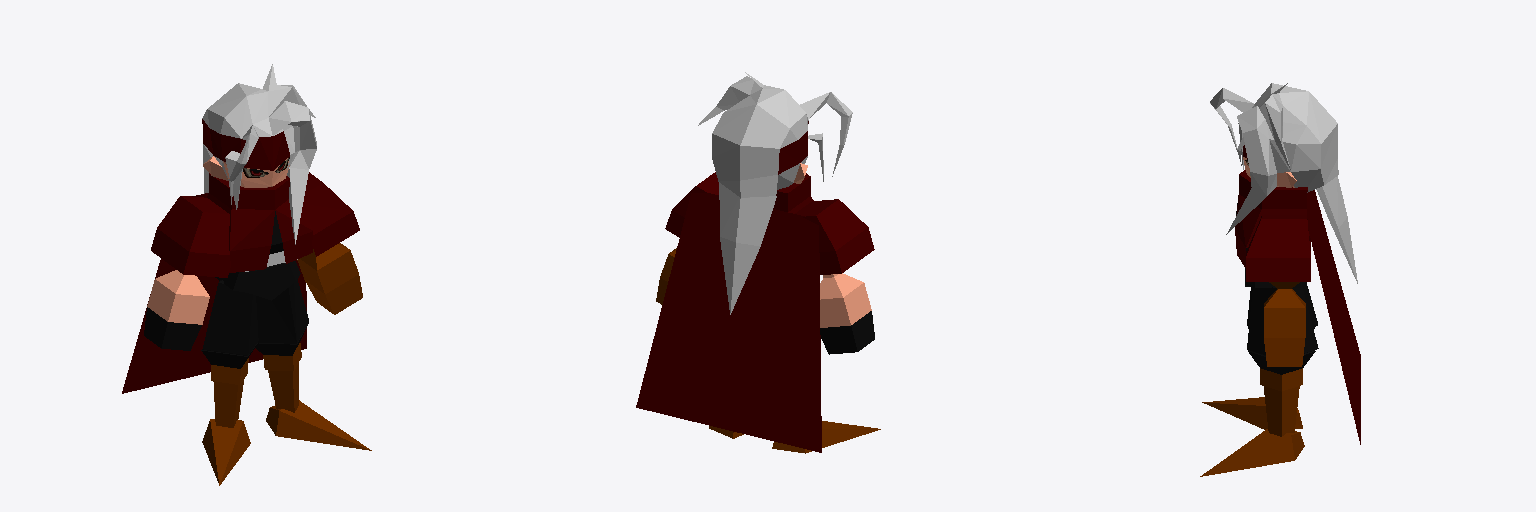
The picture shows the model from 3 angles: view 1: azimuth 30°, elevation 25°; view 2: azimuth 150°, elevation 25°; view 3: azimuth 270°, elevation 25°; orthographic projection.
Parts seen in each view (by area): view 1: 7_hair1_0_0_0, 7_capetop_0_0_0_7_capetop_0_0_0.001, 7_capearmR_0_0_0, 7_capeback_0_0_0, 7_legR1_0_0_0, 7_capearmL_0_0_0, 7_armR2_0_0_0, 7_legL1_0_0_0, 7_bootL2_0_0_0, 7_headband_0_0_0, 7_armL2_0_0_0, 7_bootR2_0_0_0 (+7 smaller); view 2: 7_capeback_0_0_0, 7_hair1_0_0_0, 7_hair2_0_0_0, 7_capearmR_0_0_0, 7_armR2_0_0_0, 7_gloveR_0_0_0, 7_bootR2_0_0_0, 7_capetop_0_0_0_7_capetop_0_0_0.001, 7_capearmL_0_0_0, 7_headband_0_0_0; view 3: 7_hair1_0_0_0, 7_capeback_0_0_0, 7_capearmL_0_0_0, 7_capetop_0_0_0_7_capetop_0_0_0.001, 7_bootL2_0_0_0, 7_bootL1_0_0_0, 7_armL2_0_0_0, 7_legL1_0_0_0, 7_hair2_0_0_0, 7_bootR2_0_0_0, 7_handL_0_0_0.
Part boxes in pixels (left/top/right/bottom): 7_hair1_0_0_0: left=202, top=64, right=316, bottom=244; 7_capetop_0_0_0_7_capetop_0_0_0.001: left=207, top=173, right=312, bottom=272; 7_capearmR_0_0_0: left=151, top=196, right=230, bottom=277; 7_capeback_0_0_0: left=122, top=193, right=306, bottom=393; 7_legR1_0_0_0: left=203, top=280, right=258, bottom=355; 7_capearmL_0_0_0: left=303, top=172, right=359, bottom=256; 7_armR2_0_0_0: left=147, top=270, right=209, bottom=324; 7_legL1_0_0_0: left=256, top=279, right=308, bottom=343; 7_bootL2_0_0_0: left=266, top=400, right=371, bottom=450; 7_headband_0_0_0: left=202, top=119, right=289, bottom=170; 7_armL2_0_0_0: left=297, top=243, right=358, bottom=293; 7_bootR2_0_0_0: left=202, top=419, right=250, bottom=485; 7_capeback_0_0_0: left=636, top=193, right=821, bottom=452; 7_hair1_0_0_0: left=698, top=72, right=852, bottom=197; 7_hair2_0_0_0: left=719, top=182, right=776, bottom=314; 7_capearmR_0_0_0: left=795, top=199, right=874, bottom=274; 7_armR2_0_0_0: left=820, top=273, right=871, bottom=327; 7_gloveR_0_0_0: left=820, top=311, right=874, bottom=354; 7_bootR2_0_0_0: left=772, top=421, right=880, bottom=453; 7_capetop_0_0_0_7_capetop_0_0_0.001: left=773, top=173, right=813, bottom=213; 7_capearmL_0_0_0: left=665, top=172, right=718, bottom=237; 7_headband_0_0_0: left=778, top=121, right=808, bottom=174; 7_hair1_0_0_0: left=1210, top=83, right=1338, bottom=234; 7_capeback_0_0_0: left=1307, top=190, right=1360, bottom=444; 7_capearmL_0_0_0: left=1246, top=215, right=1310, bottom=281; 7_capetop_0_0_0_7_capetop_0_0_0.001: left=1235, top=170, right=1310, bottom=267; 7_bootL2_0_0_0: left=1200, top=429, right=1304, bottom=476; 7_bootL1_0_0_0: left=1260, top=368, right=1302, bottom=436; 7_armL2_0_0_0: left=1264, top=282, right=1305, bottom=337; 7_legL1_0_0_0: left=1247, top=283, right=1318, bottom=355; 7_hair2_0_0_0: left=1316, top=176, right=1357, bottom=283; 7_bootR2_0_0_0: left=1202, top=397, right=1302, bottom=429; 7_handL_0_0_0: left=1264, top=338, right=1304, bottom=366.
Bounding box in the file's own units: 0.9494 × 1.65 × 0.657.
28 materials, 5 textured.